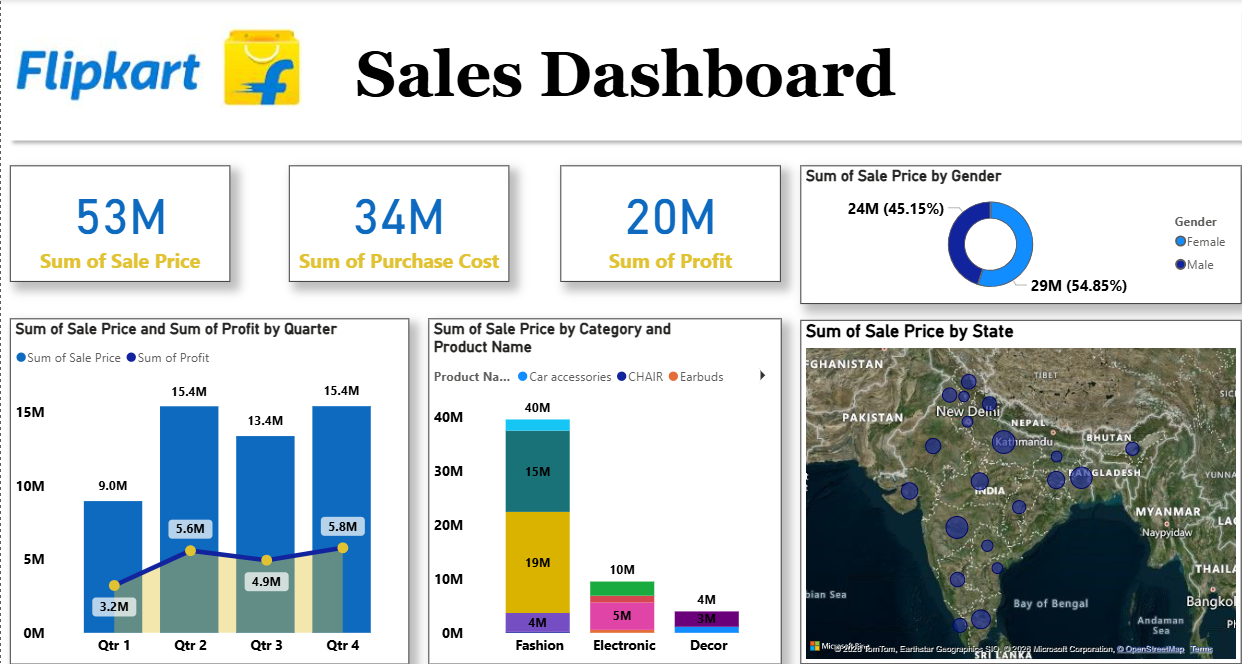

This screenshot's page, from the dashboard's own definition file:
{"tool":"powerbi","page":{"name":"Page 1","canvas":[1355,723],"ordinal":0},"visuals":[{"type":"shape","box":[0,0,1354,162],"z":0},{"type":"image","box":[0,0,340,150],"z":1000},{"type":"card","fields":{"Values":["Sum(Table 1 (Copy of actual).Sale Price)"]},"box":[10,180,238.6,125.7],"z":2000},{"type":"card","fields":{"Values":["Sum(Table 1 (Copy of actual).Purchase Cost)"]},"box":[311.4,180,238.6,125.7],"z":3000},{"type":"card","fields":{"Values":["Sum(Table 1 (Copy of actual).Profit)"]},"box":[607.1,180,238.6,125.7],"z":4000},{"type":"lineClusteredColumnComboChart","fields":{"Category":["Table 1 (Copy of actual).date.Variation.Date Hierarchy.Quarter"],"Y":["Sum(Table 1 (Copy of actual).Sale Price)"],"Y2":["Sum(Table 1 (Copy of actual).Profit)"]},"box":[10,347.1,432.9,375.7],"z":5000},{"type":"columnChart","fields":{"Category":["Table 1 (Copy of actual).Category"],"Series":["Table 1 (Copy of actual).Product Name"],"Y":["Sum(Table 1 (Copy of actual).Sale Price)"]},"box":[462.9,347.1,382.9,375.7],"z":6000},{"type":"map","fields":{"Category":["Table 1 (Copy of actual).State"],"Size":["Sum(Table 1 (Copy of actual).Sale Price)"]},"box":[866,348,478,374],"z":7000},{"type":"donutChart","fields":{"Category":["Table 1 (Copy of actual).Gender"],"Y":["Sum(Table 1 (Copy of actual).Sale Price)"]},"box":[866,180,478,150],"z":8000}]}

Visuals, with their boxes in screenshot pixels (x1, y1, x2, y2), scaled from the page's 1355x723 canvas onto the 1242x664 screenshot:
shape: bbox=(0, 0, 1241, 149)
image: bbox=(0, 0, 312, 138)
card - Sum(Table 1 (Copy of actual).Sale Price): bbox=(9, 165, 228, 281)
card - Sum(Table 1 (Copy of actual).Purchase Cost): bbox=(285, 165, 504, 281)
card - Sum(Table 1 (Copy of actual).Profit): bbox=(556, 165, 775, 281)
lineClusteredColumnComboChart - Table 1 (Copy of actual).date.Variation.Date Hierarchy.Quarter x Sum(Table 1 (Copy of actual).Sale Price): bbox=(9, 319, 406, 663)
columnChart - Table 1 (Copy of actual).Category x Table 1 (Copy of actual).Product Name: bbox=(424, 319, 775, 663)
map - Table 1 (Copy of actual).State x Sum(Table 1 (Copy of actual).Sale Price): bbox=(794, 320, 1232, 663)
donutChart - Table 1 (Copy of actual).Gender x Sum(Table 1 (Copy of actual).Sale Price): bbox=(794, 165, 1232, 303)
